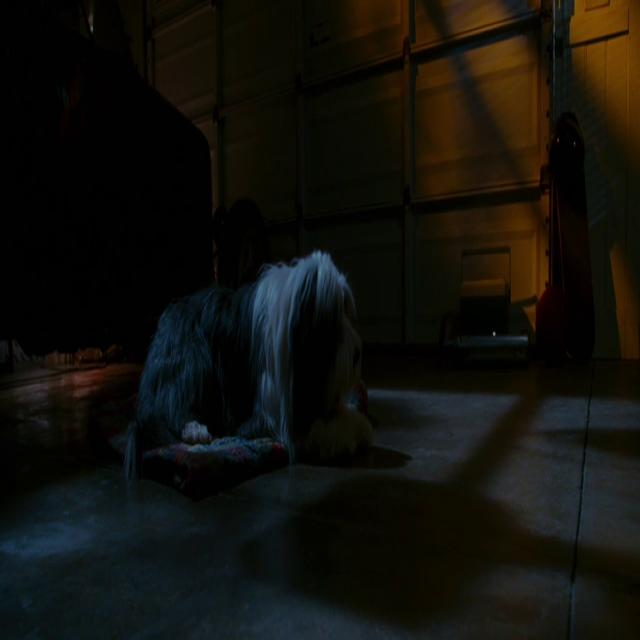Dog: (124, 143, 388, 516)
